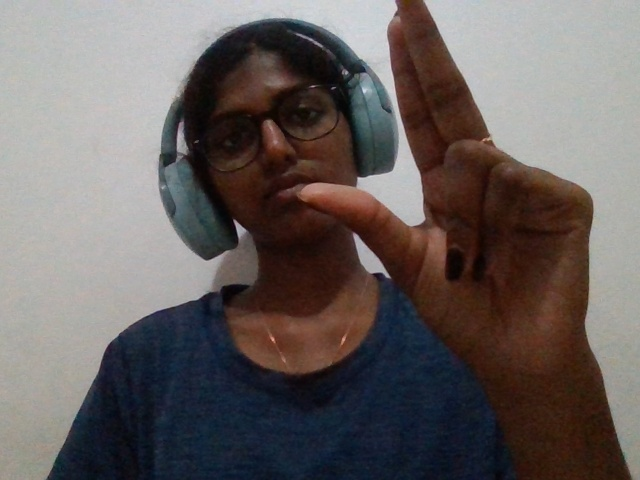No: (253, 3, 627, 393)
